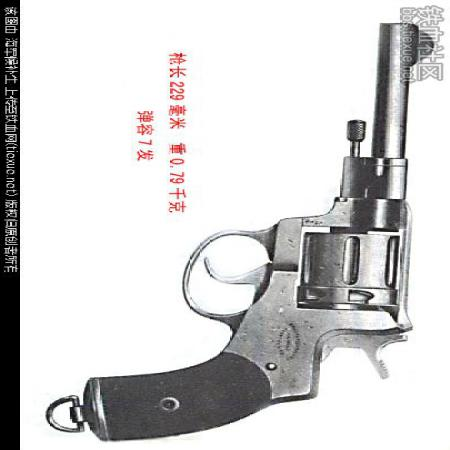Pistol: (82, 19, 432, 439)
